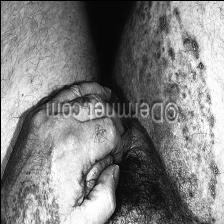Toxin: (120, 0, 212, 110), (158, 125, 218, 208)
